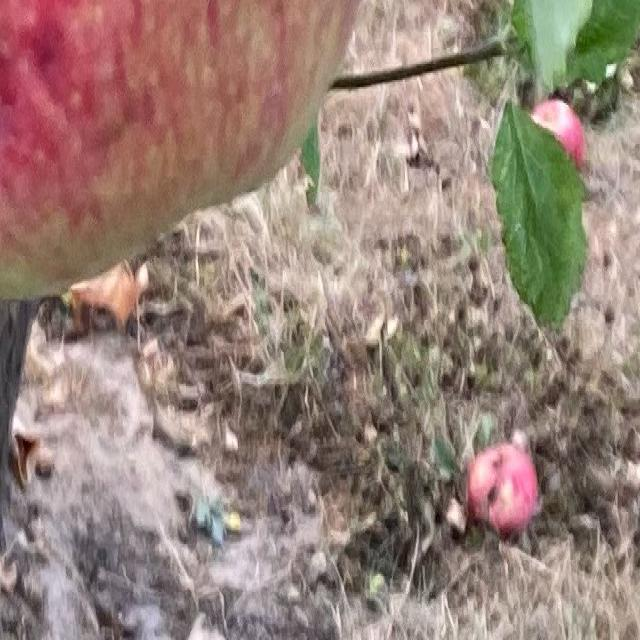Apples: (0, 0, 360, 302), (468, 444, 538, 532), (531, 103, 585, 169)
